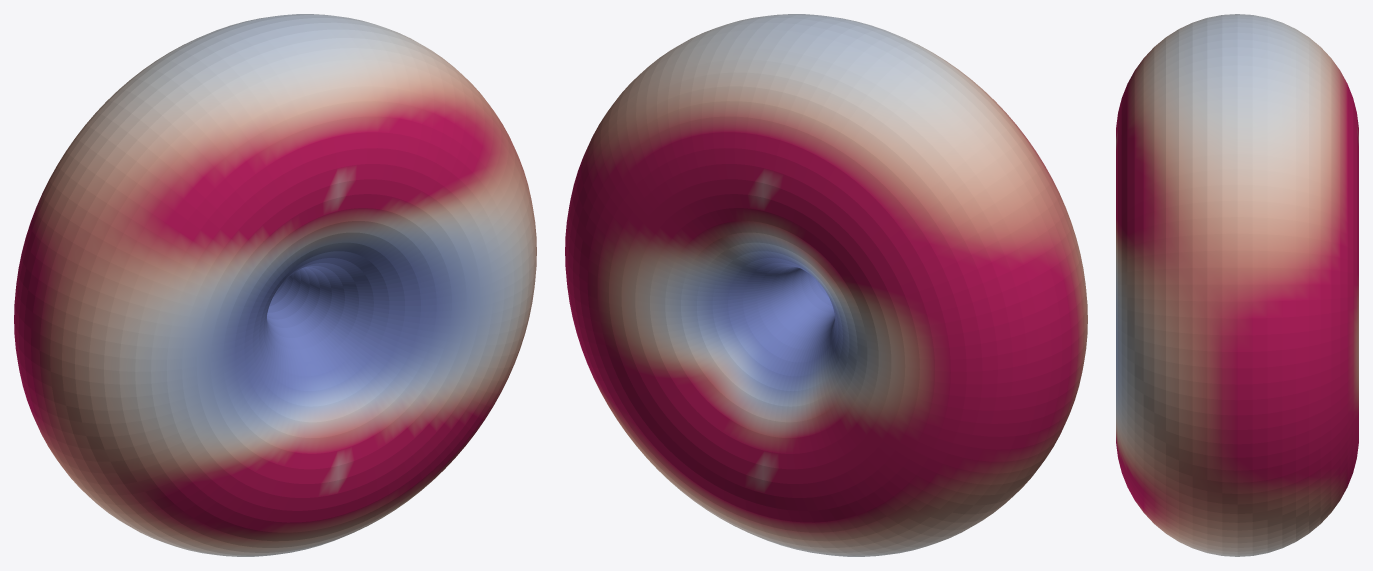
3 renders of one model, left to right at view 1: azimuth 30°, elevation 25°; view 2: azimuth 150°, elevation 25°; view 3: azimuth 270°, elevation 25°, orthographic. The views are drawn at different scales.
Parts seen in each view (by area): view 1: world; view 2: world; view 3: world.
Boxes of the visible parts, x1,y1,x2,y2 form: world: (14, 14, 536, 556); world: (565, 14, 1087, 556); world: (1116, 14, 1358, 556).
Bounding box in the file's own units: 20.53 × 20.53 × 9.18.
